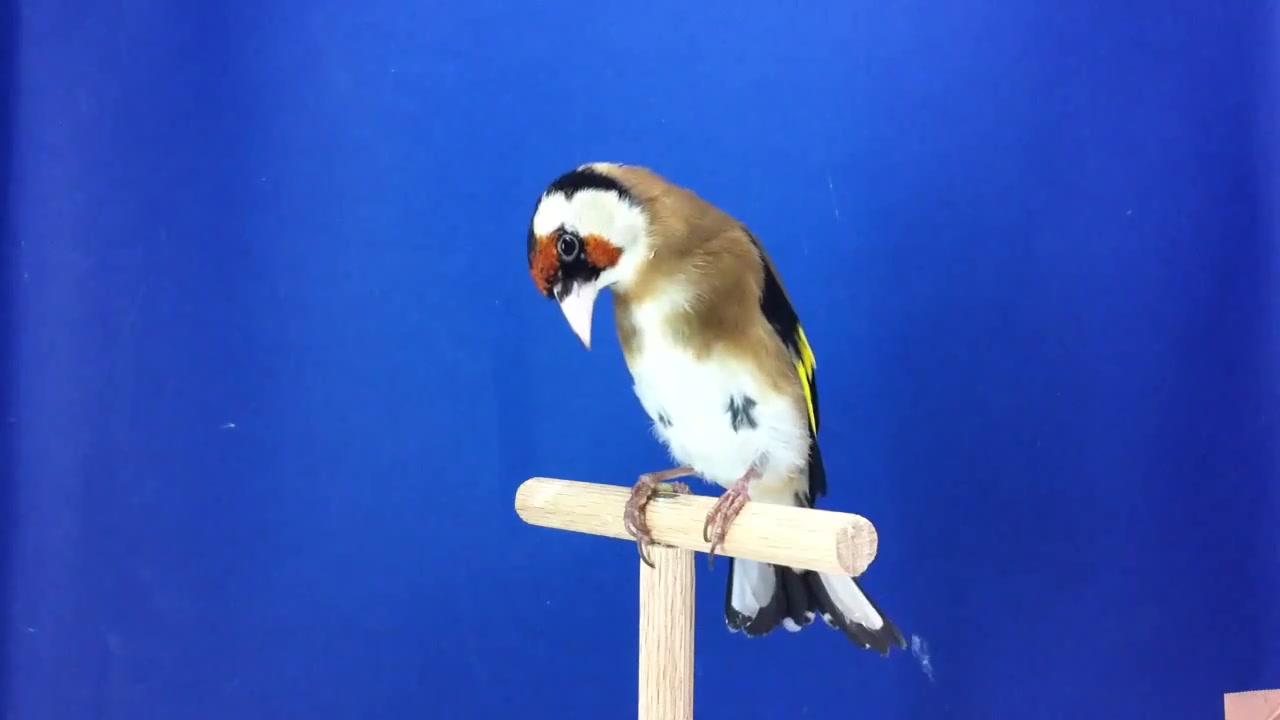bird: (529, 164, 908, 659)
